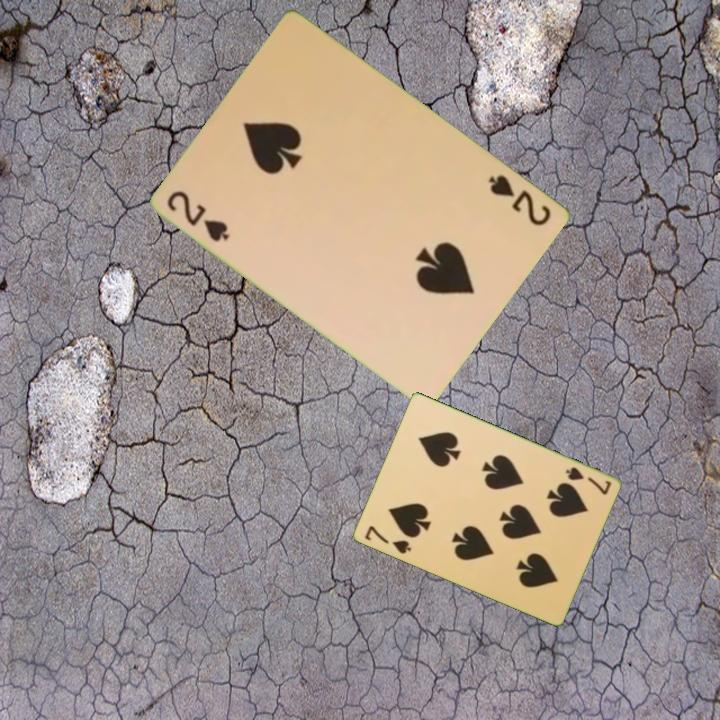2s: (164, 186, 233, 245), (485, 171, 555, 229)
7s: (360, 522, 414, 557), (562, 463, 614, 498)
